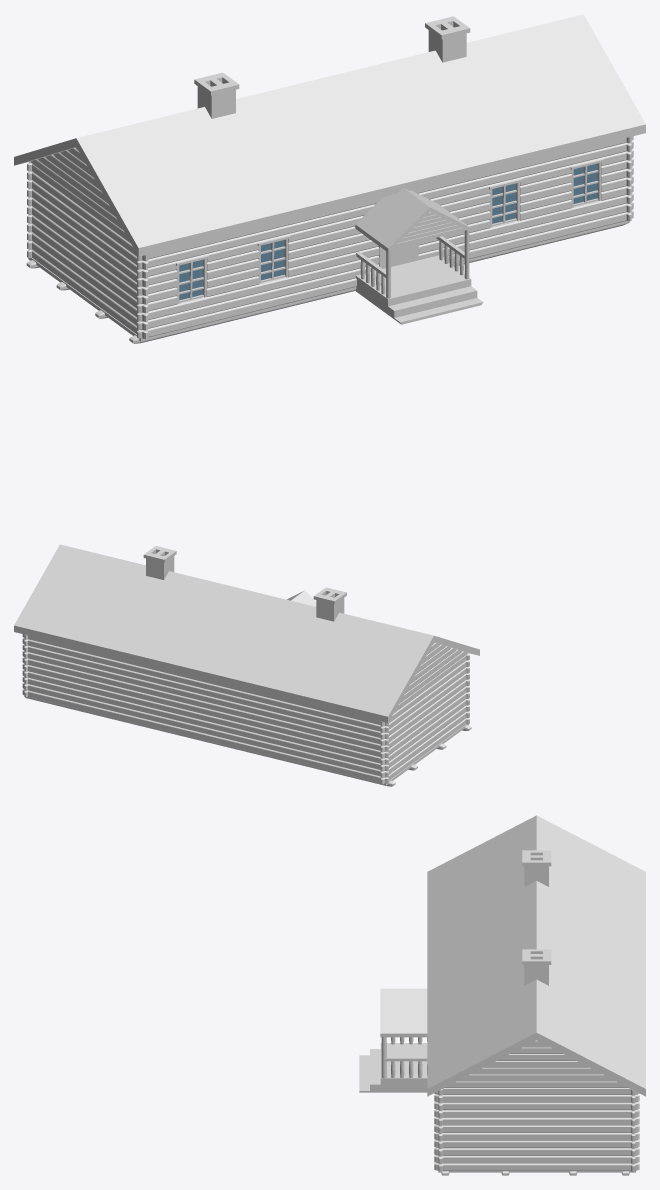
File: talo.fbx
The picture shows the model from 3 angles, top to bottom: view 1: azimuth 30°, elevation 25°; view 2: azimuth 150°, elevation 25°; view 3: azimuth 270°, elevation 25°; orthographic projection. The views are drawn at different scales.
Parts seen in each view (by area): view 1: katto, Seinäpuu.001, katto.003, Cube, ikkuna, Cube.041, Lattia, Cube.003, Cube.001, Perustapuu.003; view 2: katto, Seinäpuu.001, katto.003, Lattia, Cube.003, Cube.001; view 3: katto, Seinäpuu.001, Cube, Cube.041, katto.003, Cube.003, Cube.001.
Part boxes in pixels (box(x1,y1,x2,y2)): katto: box(76, 14, 645, 247); Seinäpuu.001: box(27, 136, 633, 339); katto.003: box(14, 124, 645, 256); Cube: box(355, 255, 483, 324); ikkuna: box(176, 159, 603, 303); Cube.041: box(356, 188, 470, 248); Lattia: box(28, 221, 629, 341); Cube.003: box(194, 72, 239, 118); Cube.001: box(425, 16, 470, 62); Perustapuu.003: box(129, 222, 628, 343); katto: box(14, 544, 433, 716); Seinäpuu.001: box(22, 634, 469, 784); katto.003: box(14, 625, 479, 722); Lattia: box(25, 697, 468, 785); Cube.003: box(313, 587, 346, 621); Cube.001: box(143, 546, 176, 579); katto: box(427, 815, 645, 1088); Seinäpuu.001: box(434, 1040, 639, 1171); Cube: box(359, 1043, 427, 1092); Cube.041: box(380, 988, 427, 1033); katto.003: box(427, 1032, 645, 1096); Cube.003: box(522, 850, 551, 886); Cube.001: box(522, 949, 551, 985).
Size of the model in its own units: 6840 by 2450 by 8410.
